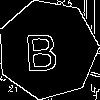B: (23, 24, 60, 72)
